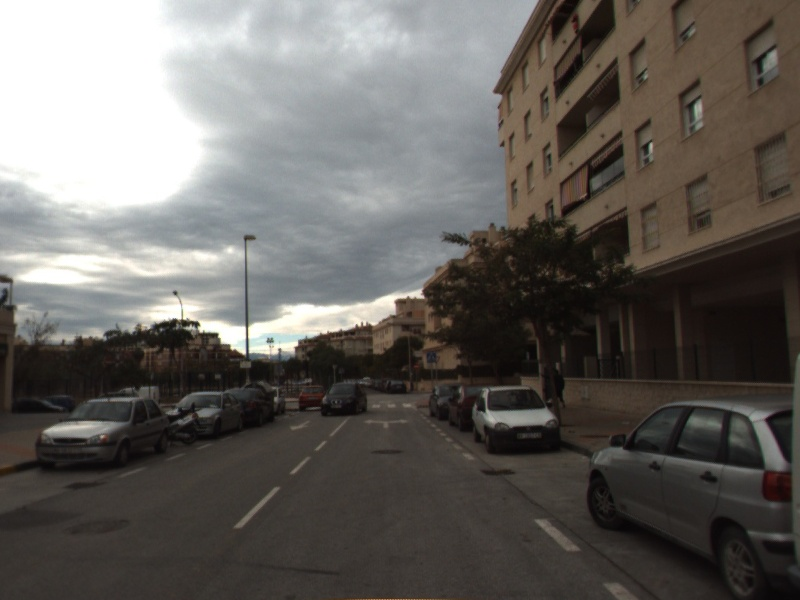LEFT_RIGHT: (362, 416, 411, 430)
